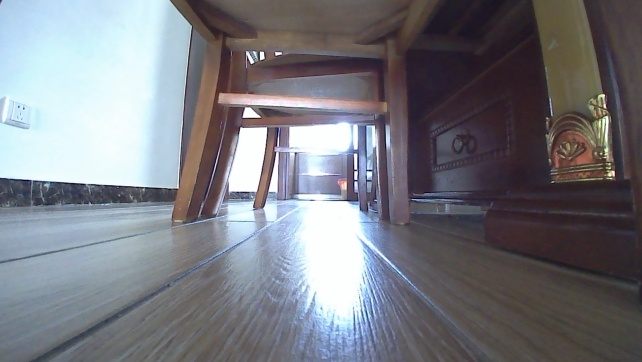dining_table1: (166, 0, 641, 283)
